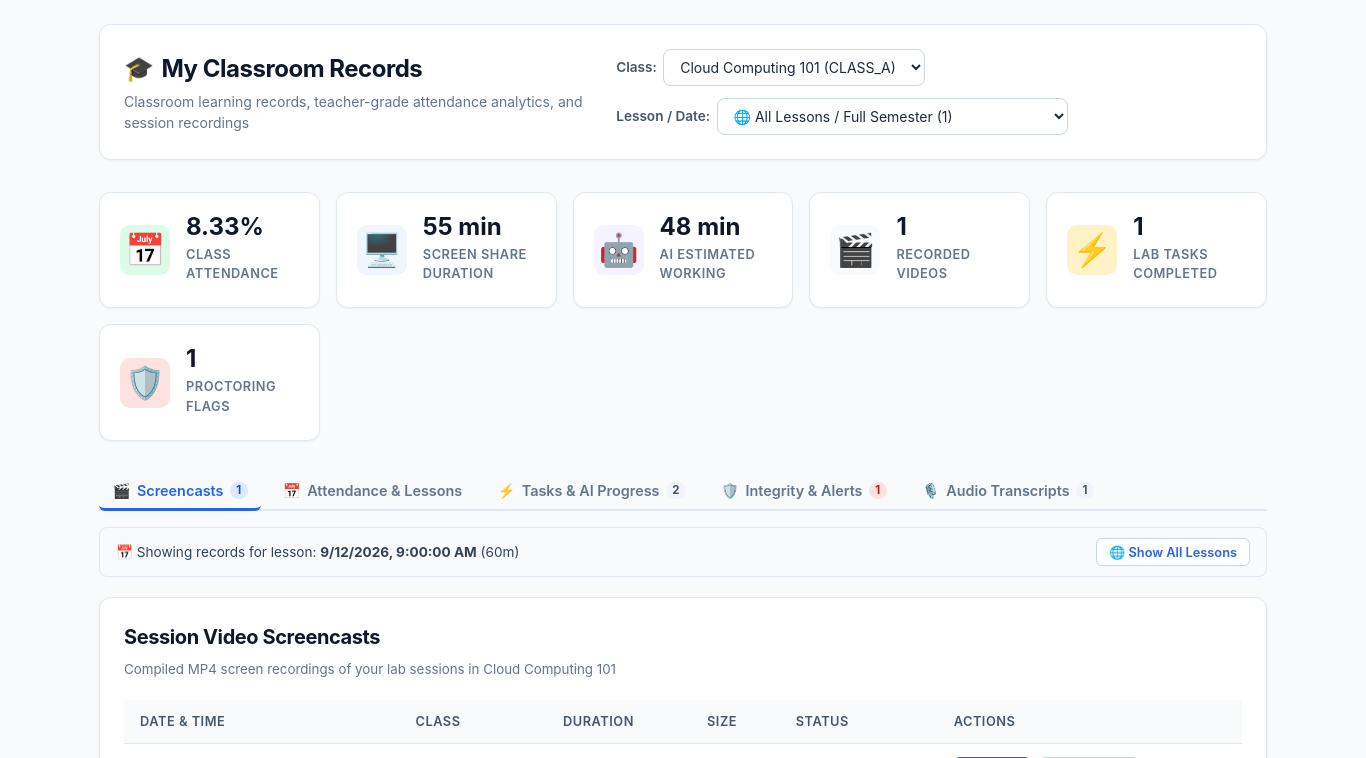
Scenario: StudentRecordsView Component › switches to Tasks tab and renders performance metrics and AI job results
Click the tab "⚡ Tasks & AI Progress 2" at (592, 492), box [484,473,700,511]
(page scrolled)
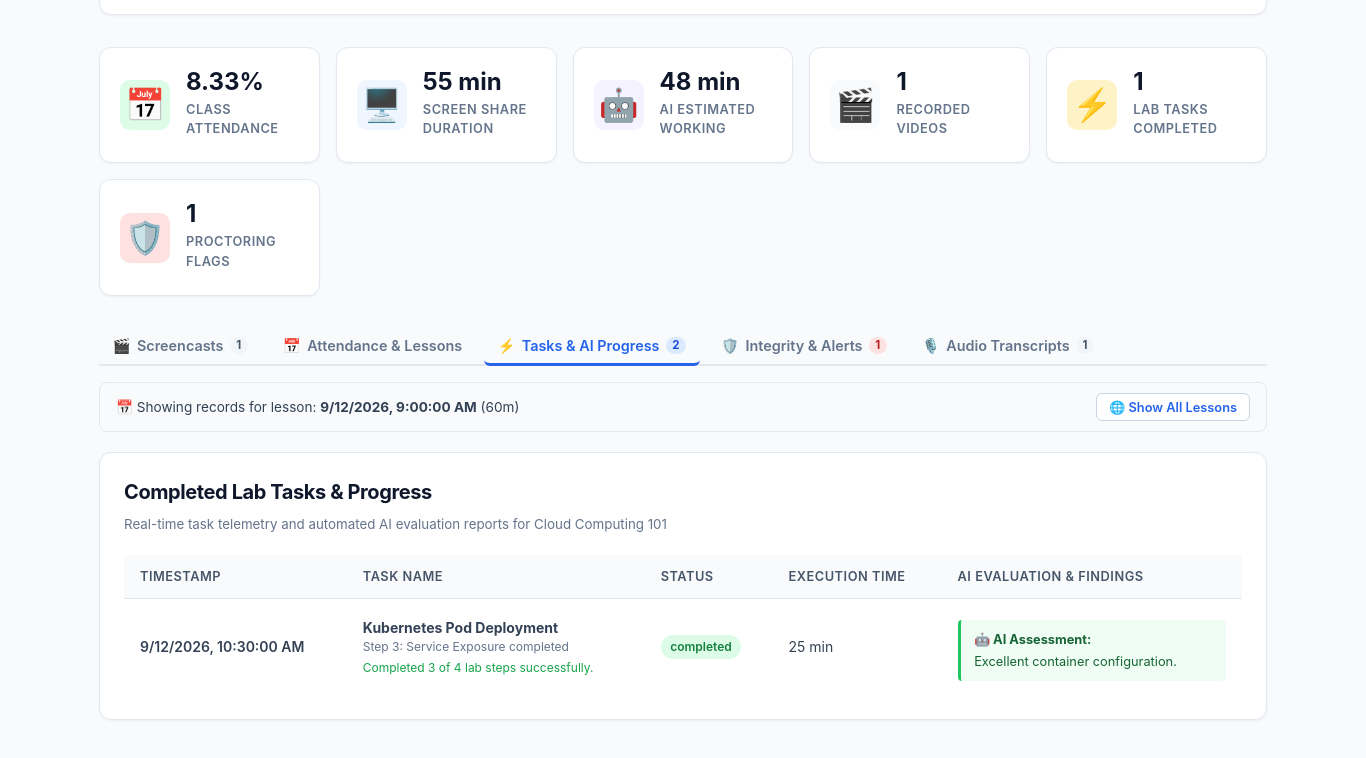
Expected: the heading "Completed Lab Tasks & Progress" is shown, [124,480,432,504]
Expected: the text "Kubernetes Pod Deployment" is shown, [363,619,558,636]
Expected: the text "Completed 3 of 4 lab steps successfully." is shown, [363,659,629,677]
